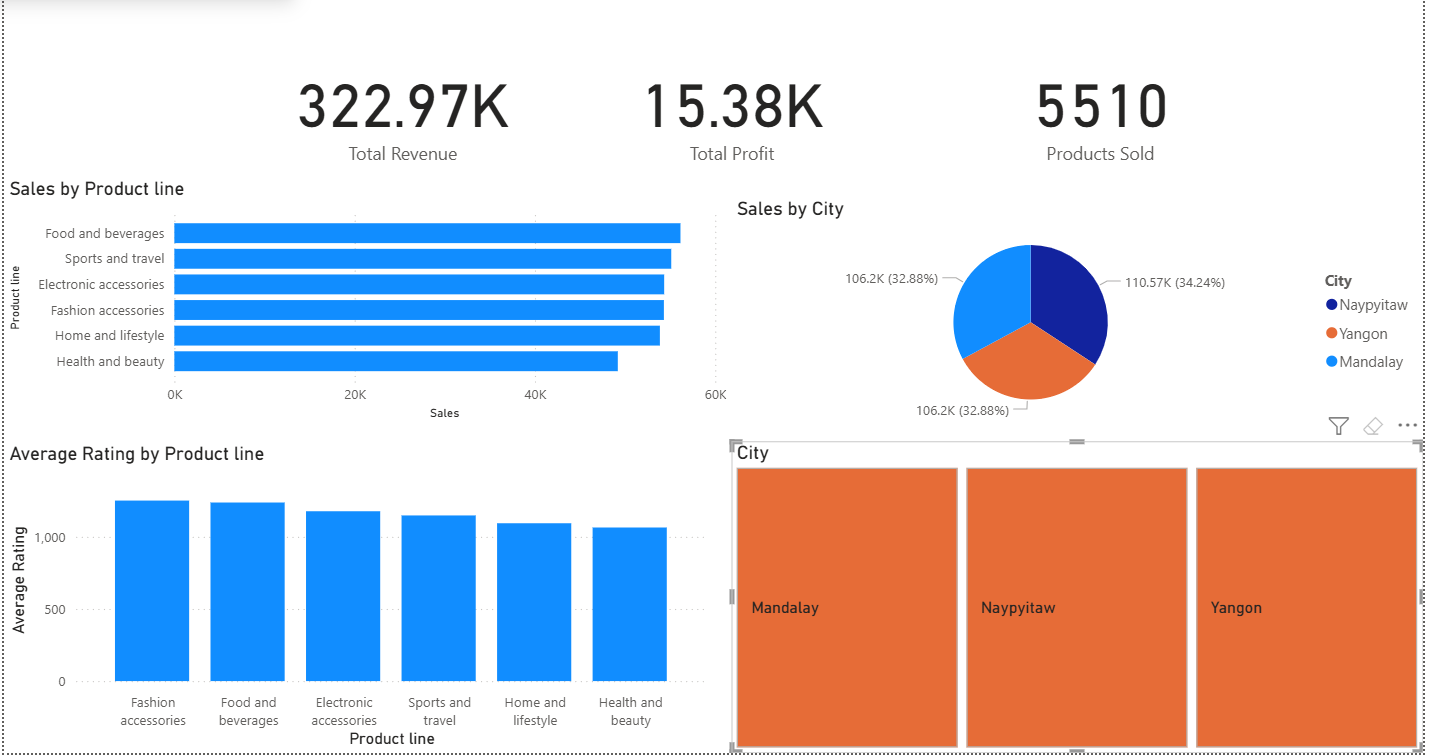

This screenshot's page, from the dashboard's own definition file:
{"tool":"powerbi","page":{"name":"Page 1","canvas":[1280,720],"ordinal":0},"visuals":[{"type":"card","fields":{"Values":["Sum(supermarket_sales - Sheet1.Total)"]},"box":[220,0,280.1,280.1],"z":0},{"type":"card","fields":{"Values":["Sum(supermarket_sales - Sheet1.Quantity)"]},"box":[849,0,280.1,280.1],"z":1000},{"type":"card","fields":{"Values":["Sum(supermarket_sales - Sheet1.gross income)"]},"box":[517.3,0,278.4,280.1],"z":2000},{"type":"clusteredBarChart","fields":{"Category":["supermarket_sales - Sheet1.Product line"],"Y":["Sum(supermarket_sales - Sheet1.Total)"]},"box":[0,201.1,656.5,223.4],"z":3000},{"type":"pieChart","fields":{"Category":["supermarket_sales - Sheet1.City"],"Y":["Sum(supermarket_sales - Sheet1.Total)"]},"box":[656.5,218.3,623.8,206.2],"z":4000},{"type":"clusteredColumnChart","fields":{"Category":["supermarket_sales - Sheet1.Product line"],"Y":["Sum(supermarket_sales - Sheet1.Rating)"]},"box":[0,440,639.3,280.1],"z":5000},{"type":"advancedSlicerVisual","fields":{"Values":["supermarket_sales - Sheet1.City"]},"box":[656.5,438.2,623.8,281.8],"z":5001}]}

Visuals, with their boxes on the page's 1280x720 design canvas (x1, y1, x2, y2). These are canvas units, not pixel positions in the 1429x755 screenshot, which may show the page scaled, cropped or inside an application window:
card - Sum(supermarket_sales - Sheet1.Total): bbox=[220, 0, 500, 280]
card - Sum(supermarket_sales - Sheet1.Quantity): bbox=[849, 0, 1129, 280]
card - Sum(supermarket_sales - Sheet1.gross income): bbox=[517, 0, 796, 280]
clusteredBarChart - supermarket_sales - Sheet1.Product line x Sum(supermarket_sales - Sheet1.Total): bbox=[0, 201, 656, 424]
pieChart - supermarket_sales - Sheet1.City x Sum(supermarket_sales - Sheet1.Total): bbox=[656, 218, 1280, 424]
clusteredColumnChart - supermarket_sales - Sheet1.Product line x Sum(supermarket_sales - Sheet1.Rating): bbox=[0, 440, 639, 720]
advancedSlicerVisual - supermarket_sales - Sheet1.City: bbox=[656, 438, 1280, 720]
